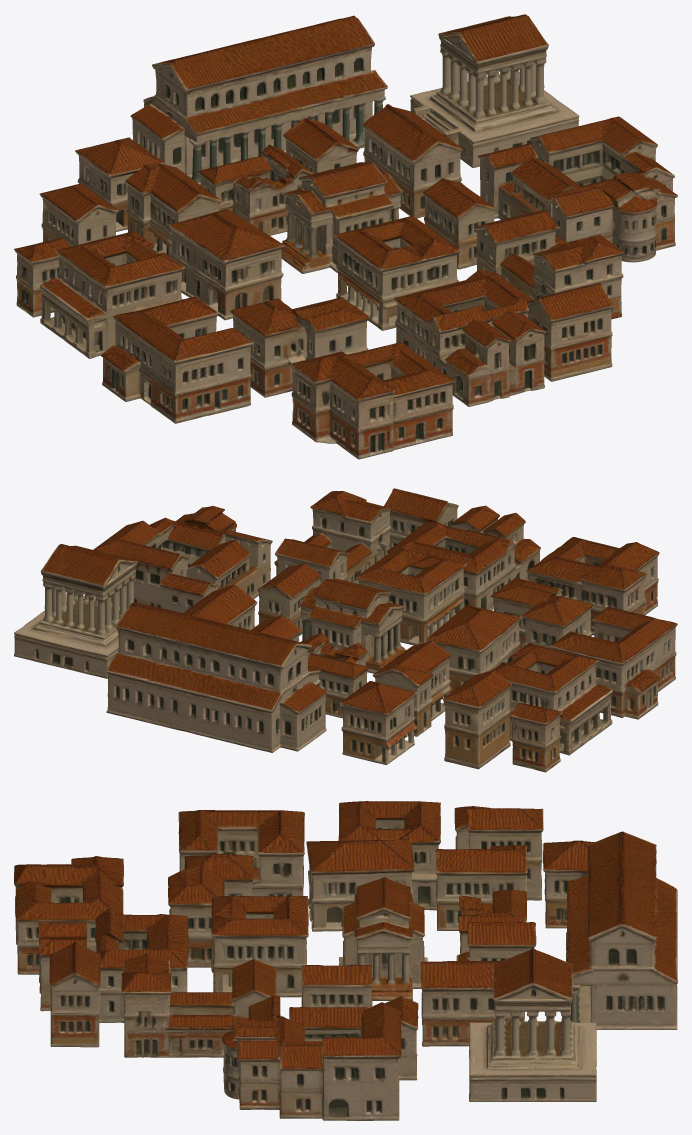
File: Classical Town (Greco-Roman).fbx
3 views of the same model, one above another, from view 1: azimuth 30°, elevation 25°; view 2: azimuth 150°, elevation 25°; view 3: azimuth 270°, elevation 25° (orthographic). The views are drawn at different scales.
Parts seen in each view (by area): view 1: tripo_node_77c239a2; view 2: tripo_node_77c239a2; view 3: tripo_node_77c239a2.
Part boxes in pixels (x1,y1,x2,y2): tripo_node_77c239a2: (14,14,677,459); tripo_node_77c239a2: (14,488,677,772); tripo_node_77c239a2: (14,801,677,1120).
Size of the model in its own units: 1 by 0.2593 by 0.9967.
